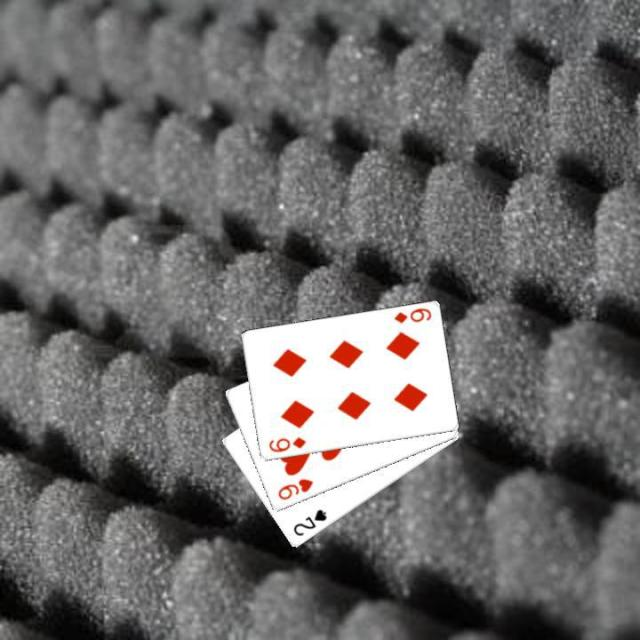2S: (289, 506, 329, 538)
6D: (390, 304, 433, 325), (265, 433, 307, 454)
9H: (274, 475, 314, 502)
